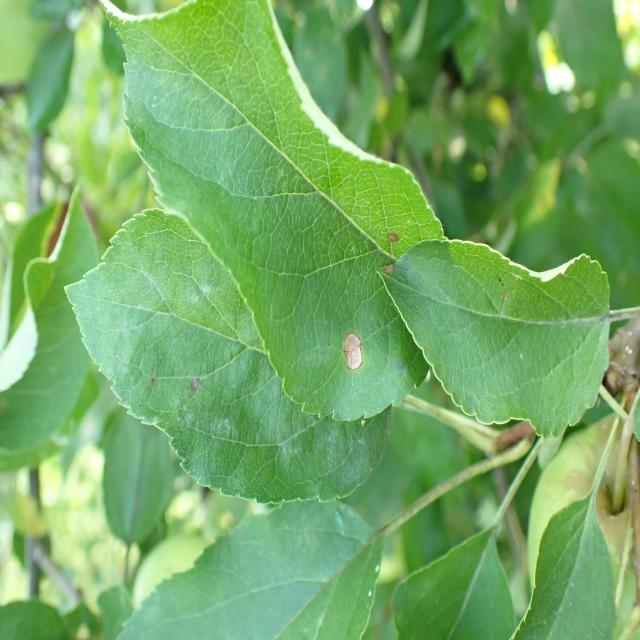frog-eye-leaf-spot: (64, 209, 432, 506)
